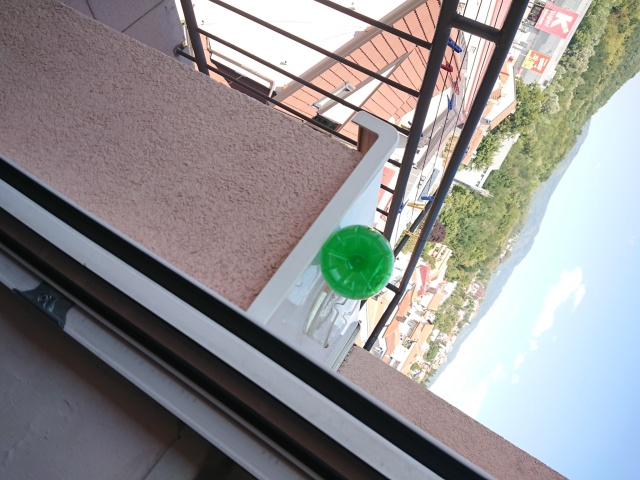Vindi Iso Sport Lemon-Grapefruit 500mL: (318, 223, 397, 302)
